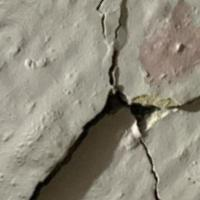crack: (24, 2, 181, 199)
